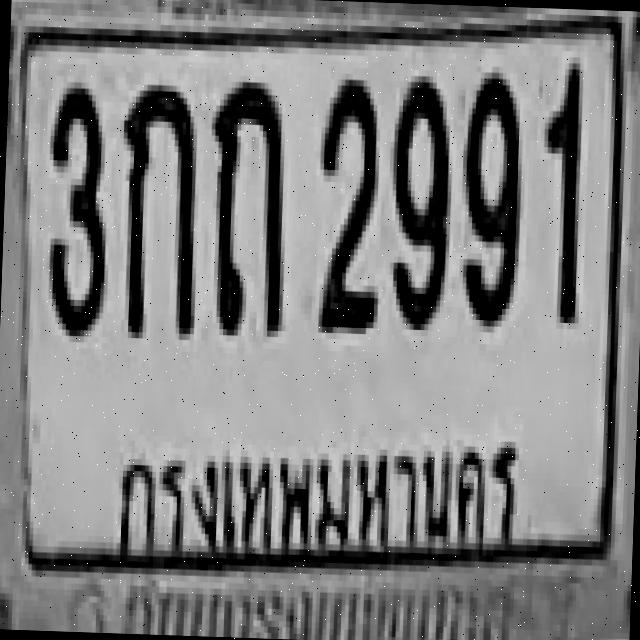1: (538, 56, 584, 323)
10GorGai: (113, 78, 199, 334)
2: (312, 76, 383, 332)
3: (44, 82, 110, 330)
31ThorThung: (204, 75, 290, 337)
9: (384, 72, 452, 327), (457, 69, 521, 324)
Bangkok: (110, 434, 533, 572)
